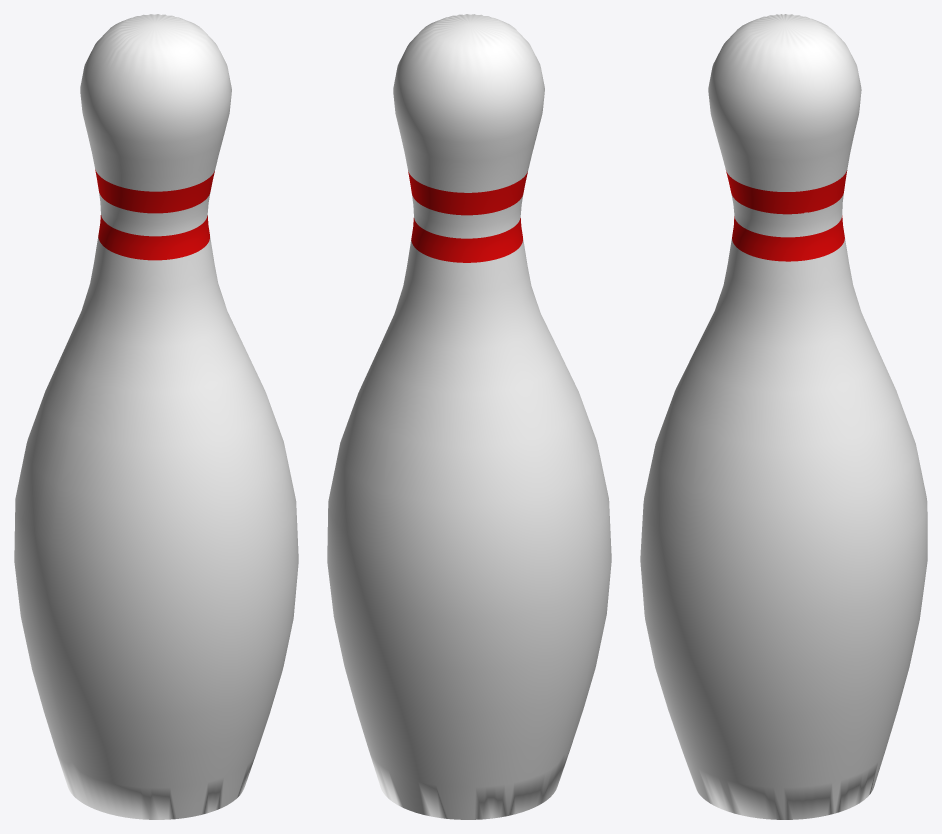
The model's file is Real size pin.fbx.
3 renders of one model, left to right at view 1: azimuth 30°, elevation 25°; view 2: azimuth 150°, elevation 25°; view 3: azimuth 270°, elevation 25°, orthographic.
Visible parts, largest first — view 1: Basic pin; view 2: Basic pin; view 3: Basic pin.
Boxes of the visible parts, x1,y1,x2,y2 form: Basic pin: (14,14,298,819); Basic pin: (327,14,611,819); Basic pin: (640,14,927,819).
Bounding box in the file's own units: 39.9 × 118 × 40.38.
Materials: 1 (1 with a texture image).
